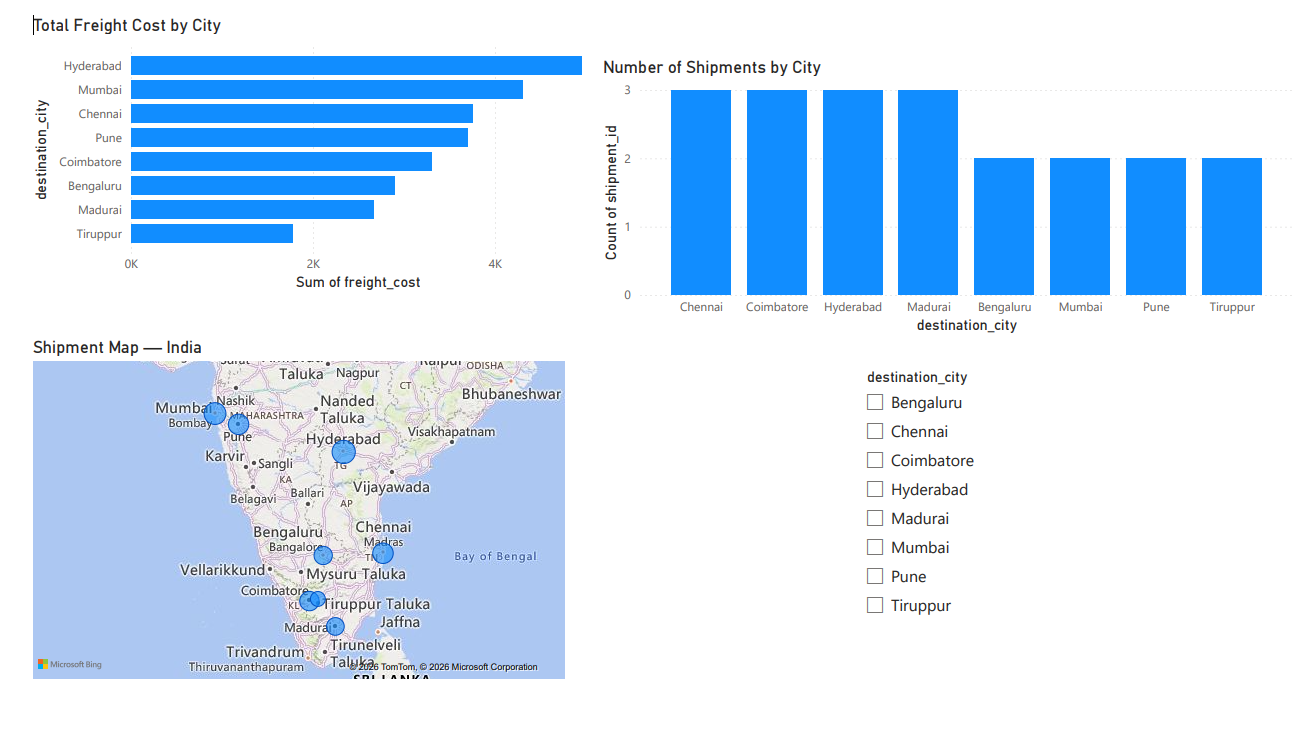

The dashboard page shown, as its layout file describes it:
{"tool":"powerbi","page":{"name":" City Analysis","canvas":[1280,720],"ordinal":3},"visuals":[{"type":"barChart","title":"Total Freight Cost by City","fields":{"Category":["logistics_db shipments.destination_city"],"Y":["Sum(logistics_db shipments.freight_cost)"]},"box":[9.7,0,570,280.1],"z":0},{"type":"clusteredColumnChart","title":"Number of Shipments by City","fields":{"Category":["logistics_db shipments.destination_city"],"Y":["CountNonNull(logistics_db shipments.shipment_id)"]},"box":[579.7,41.8,700.3,281.1],"z":1000},{"type":"map","title":"Shipment Map — India","fields":{"Category":["logistics_db shipments.destination_city"],"Size":["Sum(logistics_db shipments.freight_cost)"]},"box":[9.7,321.9,542.7,347.2],"z":2000},{"type":"slicer","fields":{"Values":["logistics_db shipments.destination_city"]},"box":[836.5,349.2,280.1,349.2],"z":2001}]}

Visuals, with their boxes in screenshot pixels (x1, y1, x2, y2), scaled from the page's 1280x720 canvas onto the 1316x754 screenshot:
"Total Freight Cost by City" barChart: {"x1": 10, "y1": 0, "x2": 596, "y2": 293}
"Number of Shipments by City" clusteredColumnChart: {"x1": 596, "y1": 44, "x2": 1315, "y2": 338}
"Shipment Map — India" map: {"x1": 10, "y1": 337, "x2": 568, "y2": 701}
slicer - logistics_db shipments.destination_city: {"x1": 860, "y1": 366, "x2": 1148, "y2": 731}
